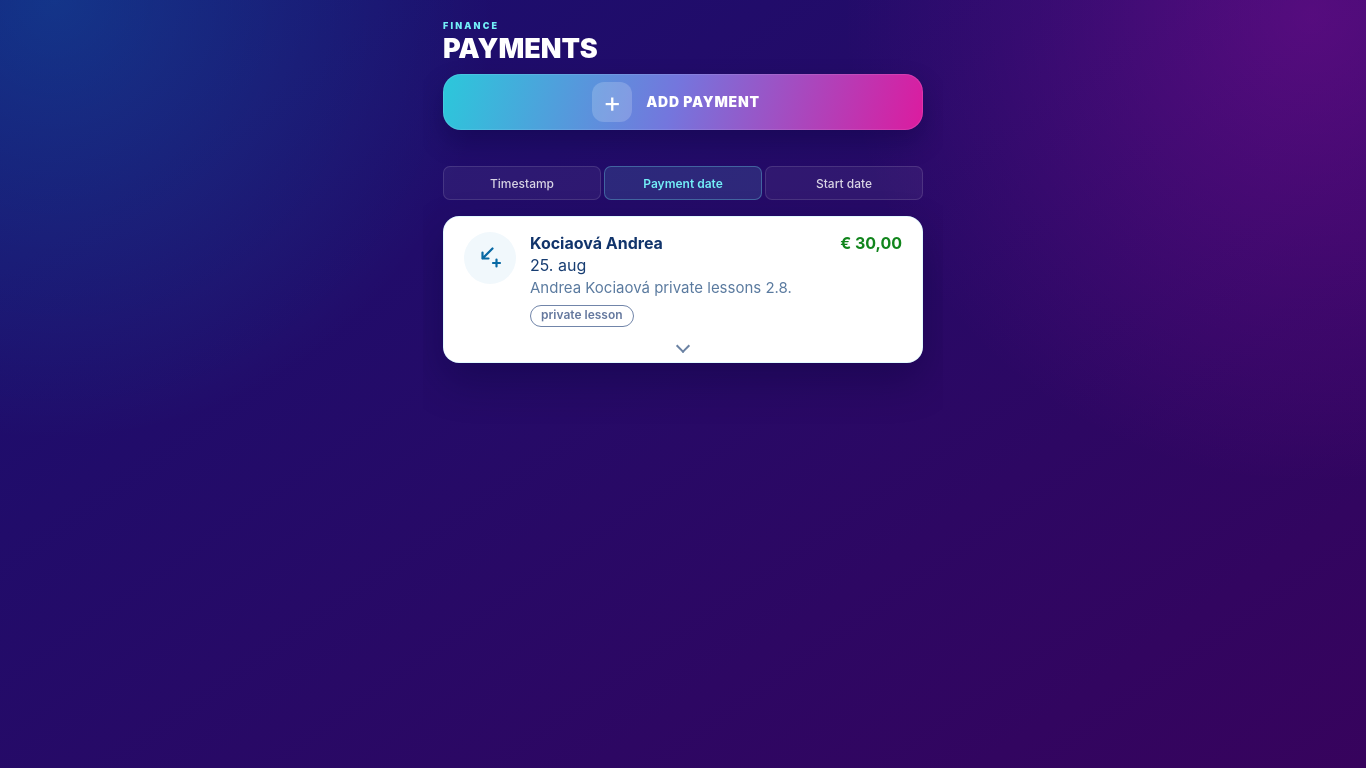
Test: PaymentHistoryPage › uses the same compact and expandable layout for other payments
Expected: the text "Kociaová Andrea" is shown, [530,233,663,253]
Expected: the text "Andrea Kociaová private lessons 2.8." is shown, [530,278,792,297]
Click the button named "show all payment information" at x=683, y=348, box [444,335,922,362]
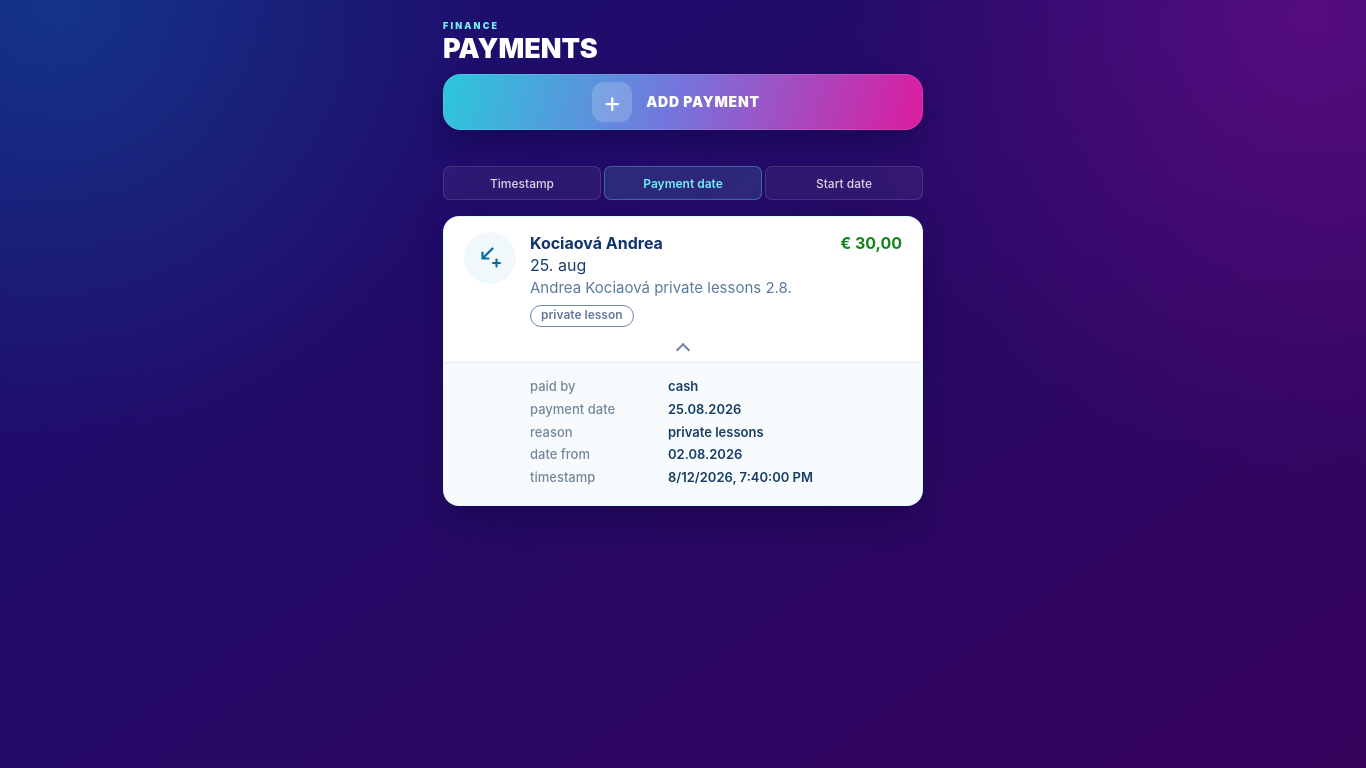
Expected: the text "private lessons" is shown, [668,424,764,440]
Expected: the text "cash" is shown, [668,378,698,394]
